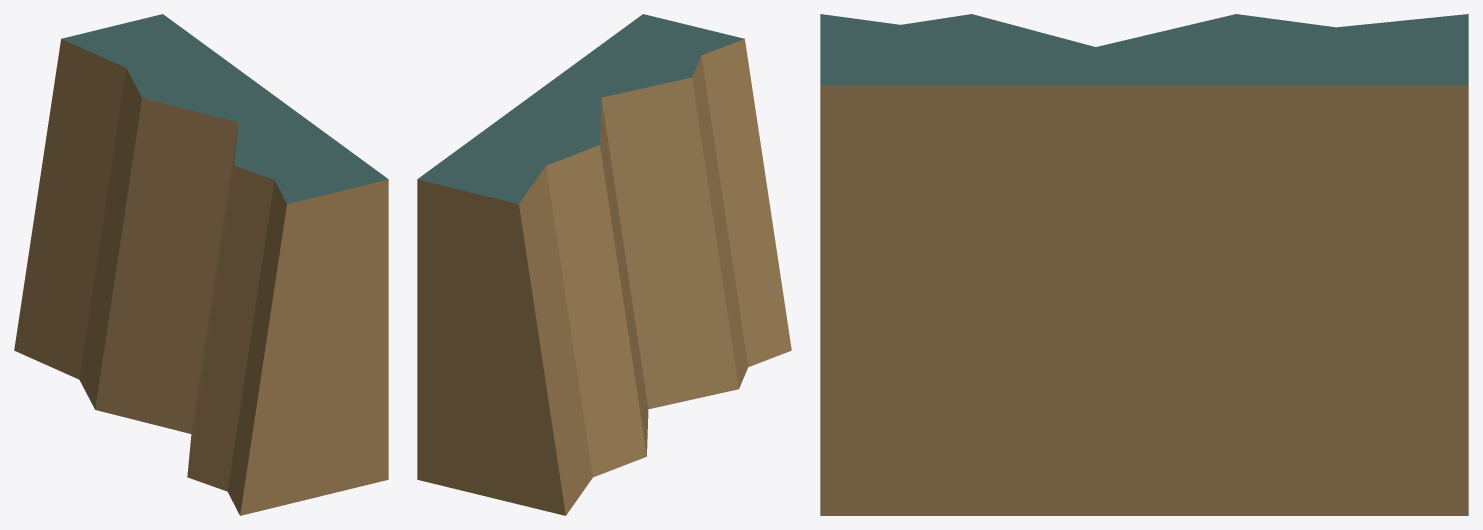
Rendered from Brown_Cliff_Bottom_Green_Top_01.obj.
3 views of the same model, side by side, from view 1: azimuth 30°, elevation 25°; view 2: azimuth 150°, elevation 25°; view 3: azimuth 270°, elevation 25° (orthographic). The views are drawn at different scales.
Parts seen in each view (by area): view 1: Mesh1 Brown_Cliff_Bottom_Green_Top Model; view 2: Mesh1 Brown_Cliff_Bottom_Green_Top Model; view 3: Mesh1 Brown_Cliff_Bottom_Green_Top Model.
Part boxes in pixels (x1,y1,x2,y2): Mesh1 Brown_Cliff_Bottom_Green_Top Model: (14,14,388,515); Mesh1 Brown_Cliff_Bottom_Green_Top Model: (417,14,791,515); Mesh1 Brown_Cliff_Bottom_Green_Top Model: (820,14,1468,515).
Bounding box in the file's own units: 1.14 × 2.2 × 3.
Materials: 1 (1 with a texture image).
